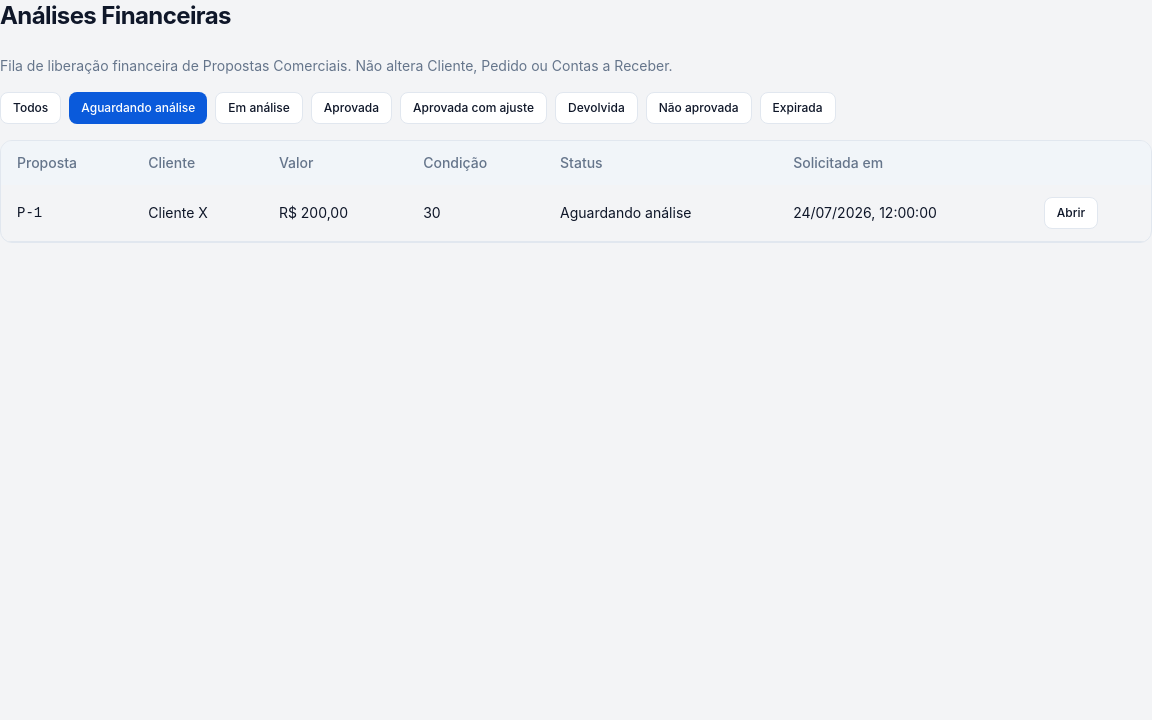
Scenario: AnalisesFinanceirasPage dossiê › abre detalhe com dossiê e ações
The width and height of the screenshot is (1152, 720).
Step 1. Click the button with test id "analise-fin-abrir-7" → (1071, 213), box x1=1044 y1=197 x2=1098 y2=229
(page scrolled)
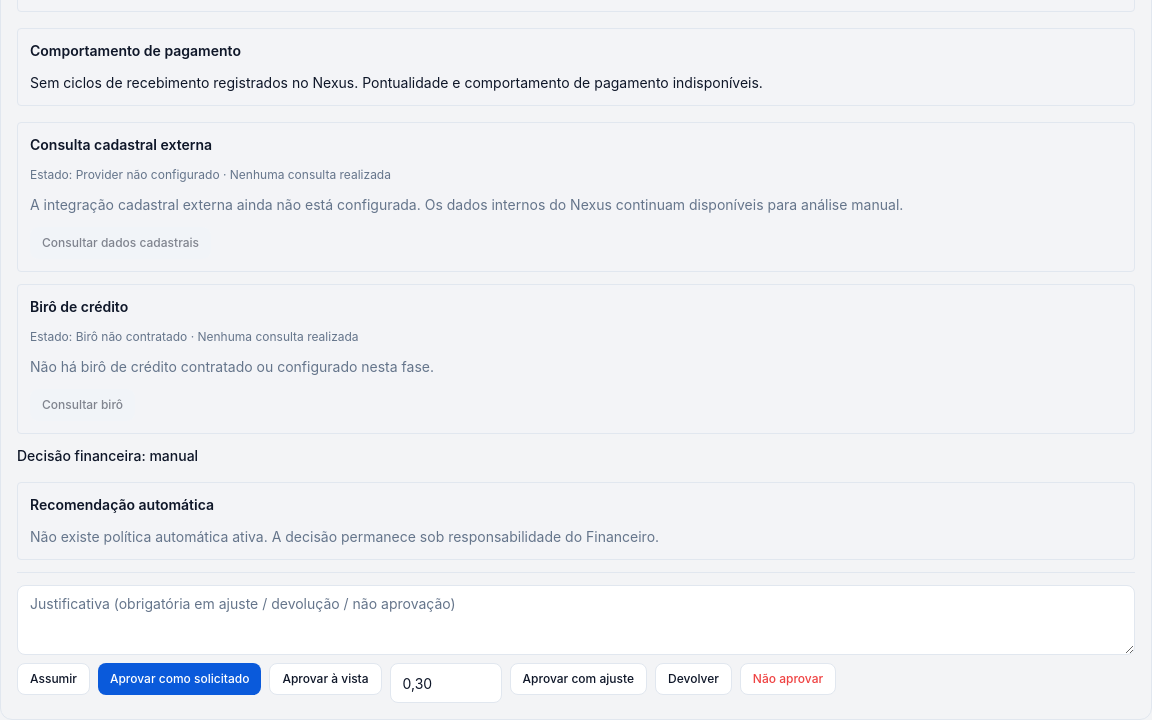
Now the element with test id "analise-fin-acoes" is shown, box x1=17 y1=572 x2=1135 y2=703
